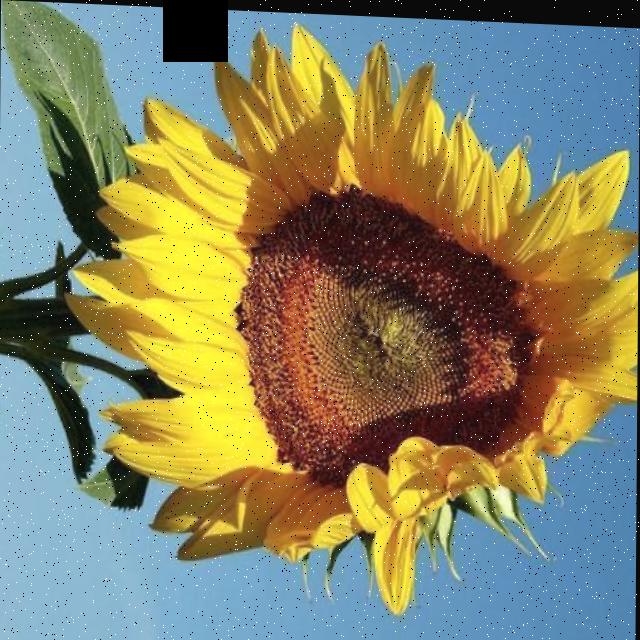sunflower: (0, 76, 639, 606)
